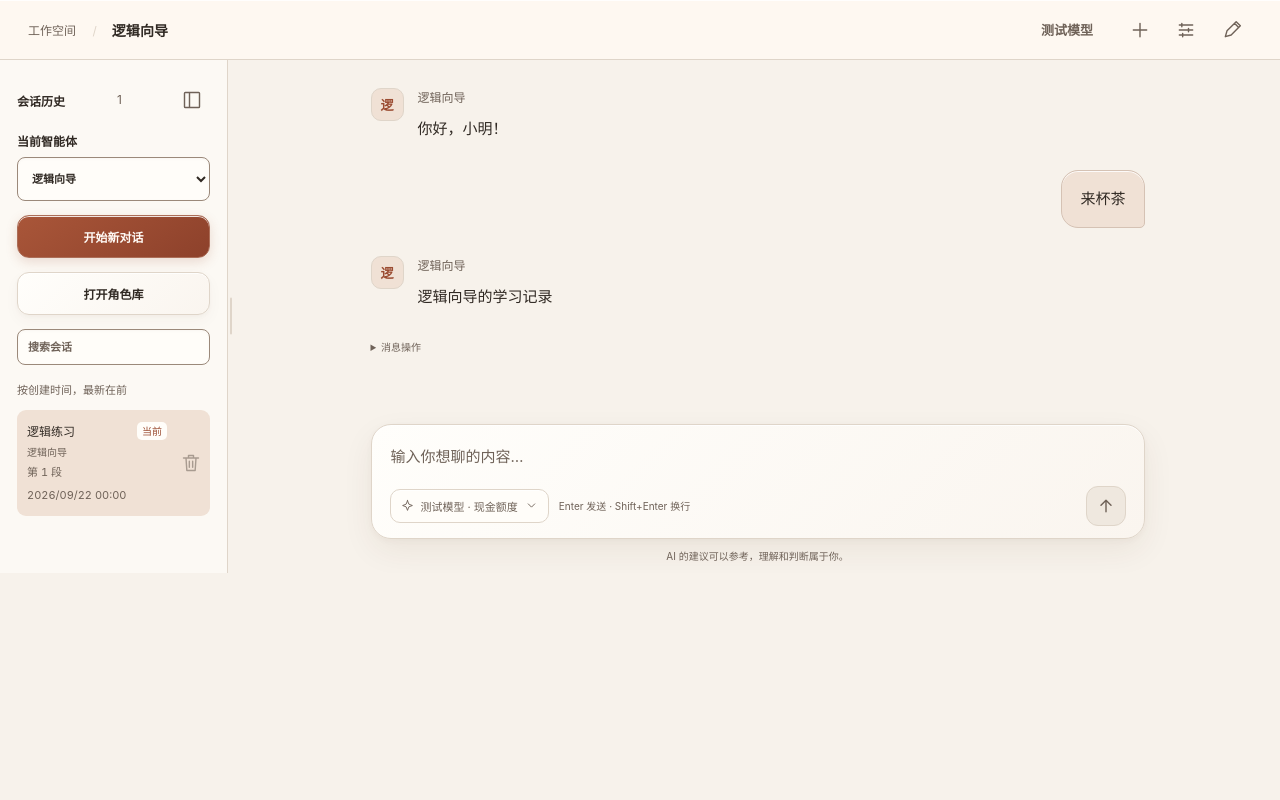
Test: puts collapse inside the history heading and restores it from the existing header without an extra rail
Expected: the text "逻辑向导的学习记录" is shown, [418,286,552,306]
Click the button named "收起会话历史" at (192, 100), box [174,82,210,118]
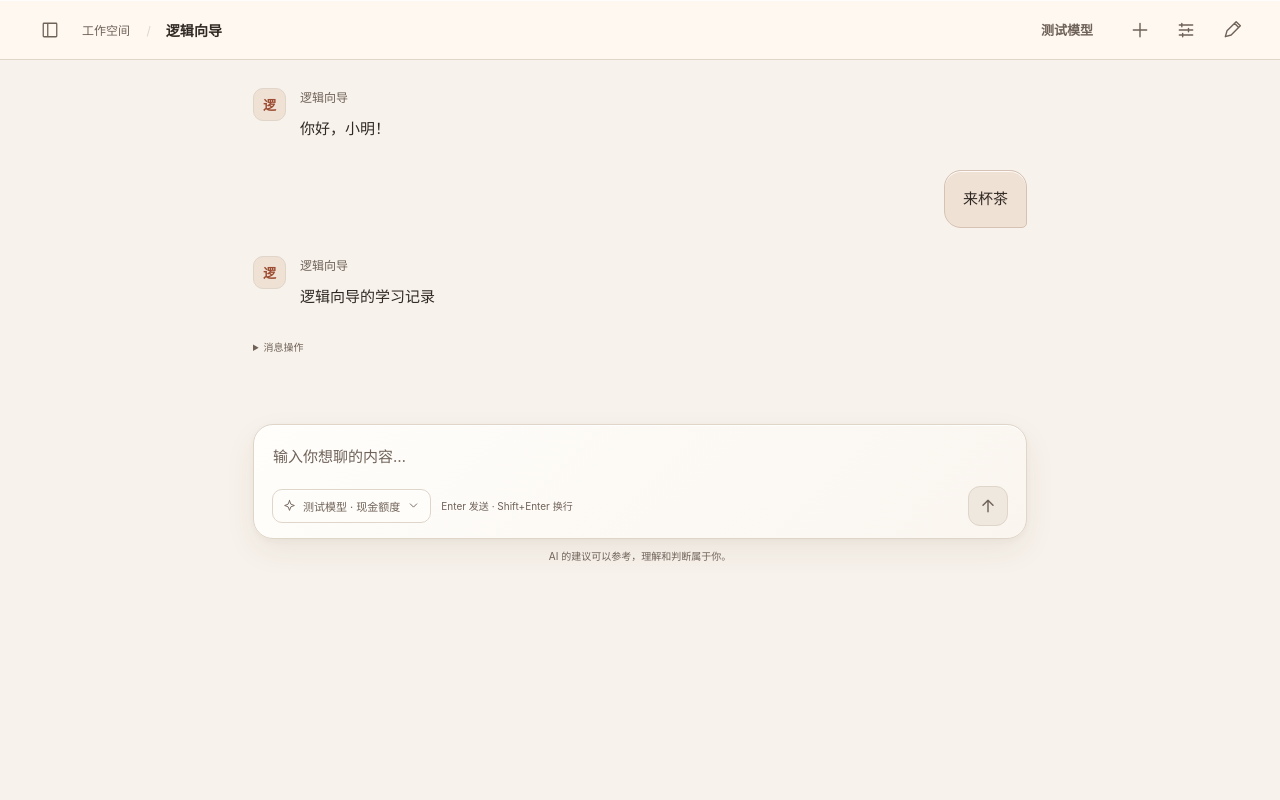
Click the button named "展开会话历史" at (50, 30), box [28,8,72,52]
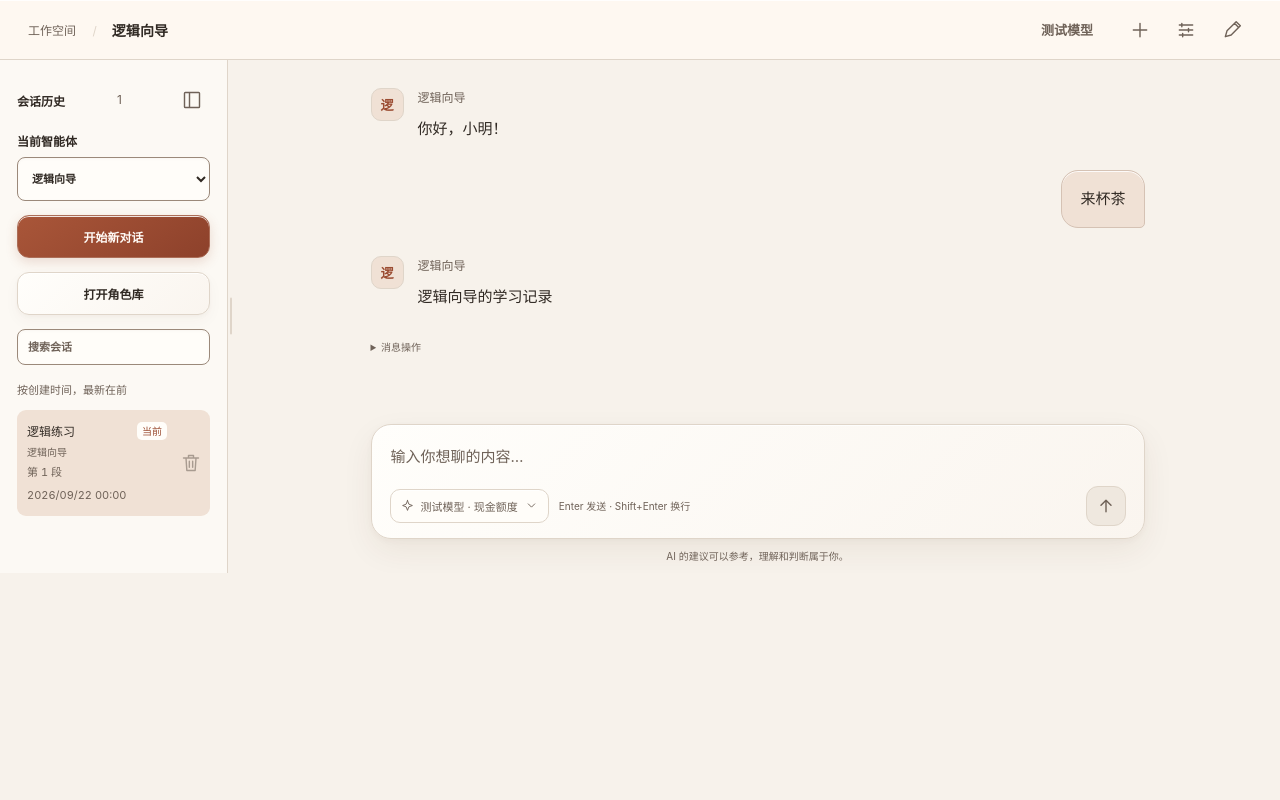
Result: the element that starts with "会话历史" is shown at [0,60,228,573]
